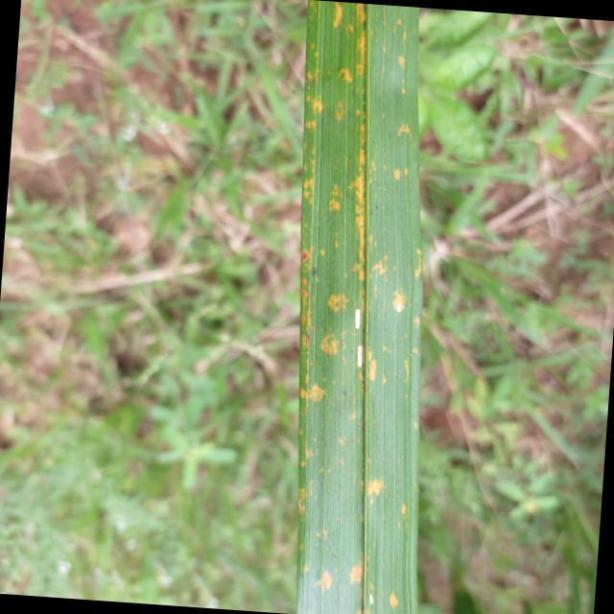Kalium: (301, 0, 421, 614)
